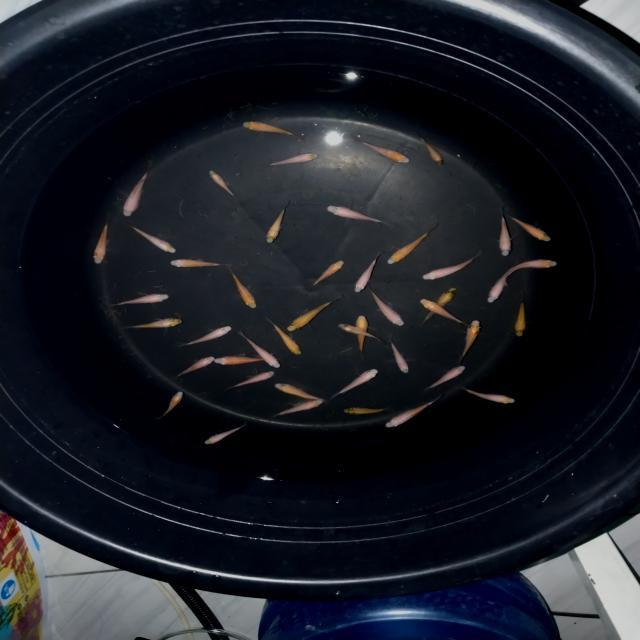nila: (385, 221, 443, 266), (382, 397, 446, 434), (490, 256, 562, 288), (280, 296, 342, 332), (418, 250, 486, 282), (502, 208, 556, 248), (350, 136, 416, 168), (414, 284, 462, 327), (262, 318, 305, 361), (454, 315, 494, 361), (330, 366, 382, 401), (122, 170, 158, 218), (128, 223, 180, 256), (324, 204, 394, 228), (368, 289, 408, 329), (226, 266, 260, 312), (240, 334, 282, 371), (237, 120, 307, 142), (353, 252, 385, 296), (225, 367, 279, 393), (422, 364, 472, 392), (180, 323, 236, 348), (200, 421, 253, 447), (484, 266, 518, 306), (336, 321, 388, 347), (418, 298, 469, 324), (460, 385, 520, 407), (271, 382, 328, 405), (271, 397, 331, 418), (258, 206, 290, 245), (260, 150, 322, 170), (114, 316, 182, 334), (510, 291, 534, 341), (308, 256, 348, 286), (387, 340, 415, 380), (90, 217, 112, 267), (416, 134, 446, 170), (173, 352, 217, 376), (114, 292, 176, 307), (497, 206, 514, 260), (156, 390, 186, 420), (206, 169, 236, 199), (356, 312, 374, 360), (168, 256, 225, 271), (340, 402, 390, 418), (207, 356, 274, 367)
